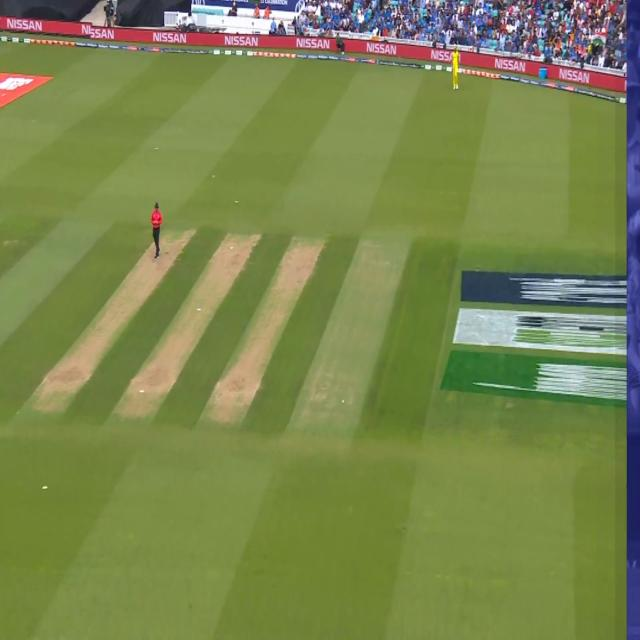ball: (340, 395, 348, 407)
